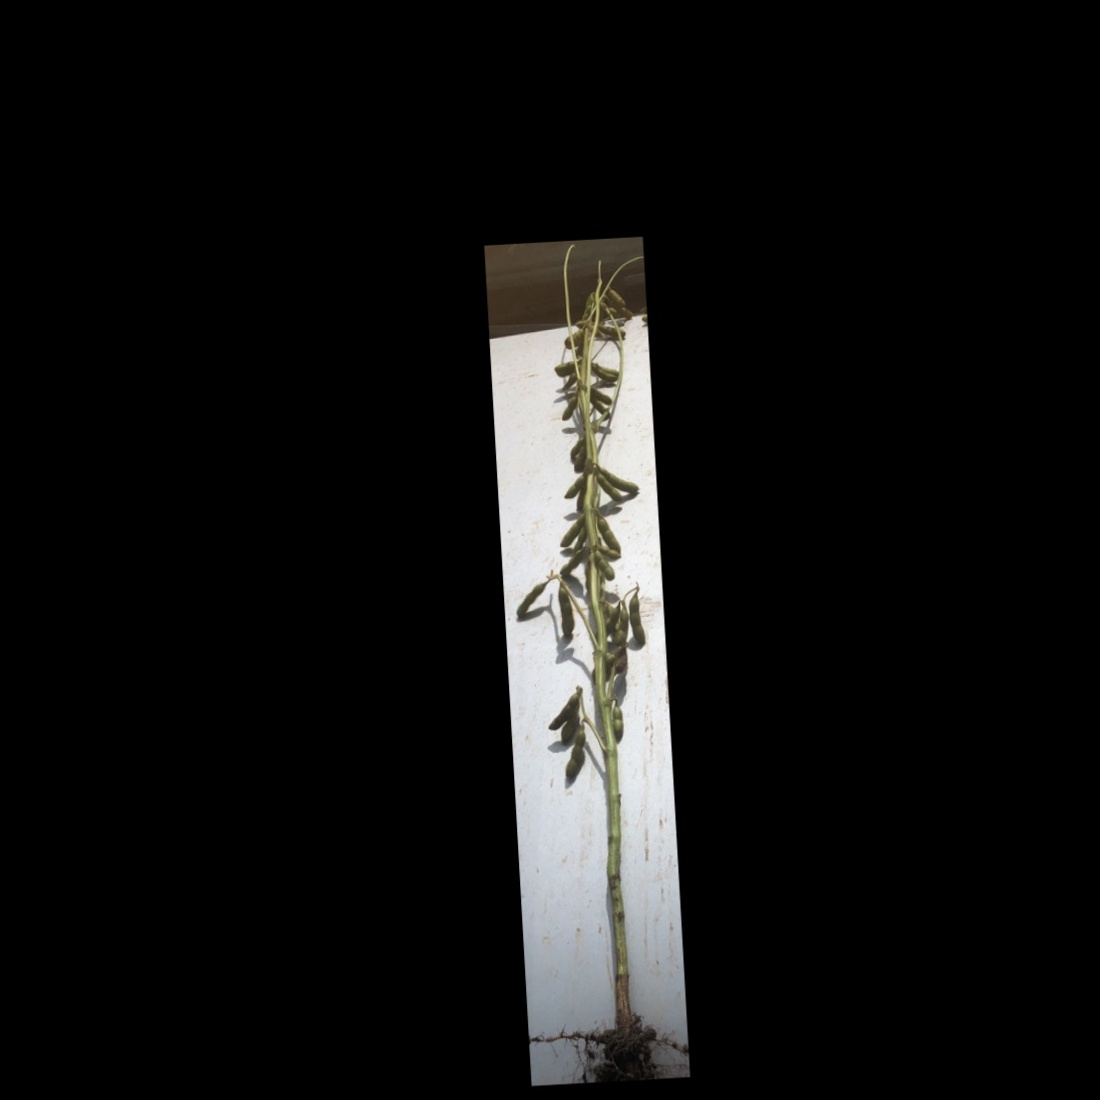pod: (514, 580, 553, 618), (563, 725, 586, 783), (626, 594, 650, 649), (557, 581, 576, 637), (558, 549, 588, 577), (593, 552, 616, 584), (558, 393, 581, 424), (610, 702, 626, 741), (566, 437, 586, 458), (573, 527, 588, 552), (609, 285, 627, 307)
soy: (494, 251, 687, 1059)
